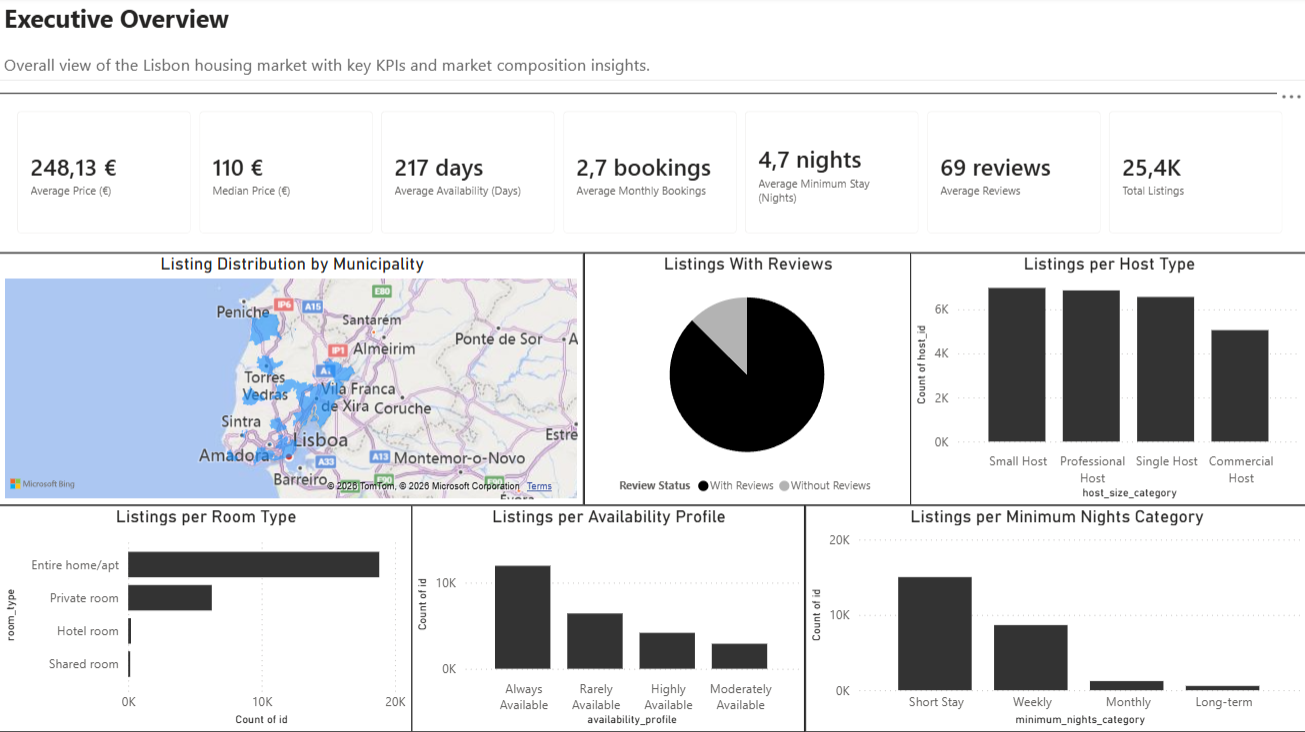

The dashboard page shown, as its layout file describes it:
{"tool":"powerbi","page":{"name":"Executive Overview","canvas":[1280,720],"ordinal":0},"visuals":[{"type":"cardVisual","fields":{"Data":["Avg(listings_data_clean.price)","Median(listings_data_clean.price)1","Avg(listings_data_clean.availability_365)","Avg(listings_data_clean.estimated_bookings_month)","Avg(listings_data_clean.minimum_nights)","Avg(listings_data_clean.number_of_reviews)","CountNonNull(listings_data_clean.id)"]},"box":[0,94.7,1280.3,156.4],"z":0},{"type":"textbox","box":[0,0,1280,82.5],"z":1000},{"type":"filledMap","title":"Listing Distribution by Municipality","fields":{"Category":["listings_data_clean.neighbourhood_group"]},"box":[0,251.1,572.2,247],"z":2000},{"type":"pieChart","title":"Listings With Reviews","fields":{"Category":["listings_data_clean.Review Status"],"Y":["CountNonNull(listings_data_clean.id)"]},"box":[572.2,251.1,319.7,247],"z":3000},{"type":"columnChart","title":"Listings per Host Type","fields":{"Category":["listings_data_clean.host_size_category"],"Y":["CountNonNull(listings_data_clean.host_id)"]},"box":[891.9,251.1,388.3,247],"z":4000},{"type":"clusteredBarChart","title":"Listings per Room Type","fields":{"Category":["listings_data_clean.room_type"],"Y":["CountNonNull(listings_data_clean.id)"]},"box":[0,497.5,403.8,222.5],"z":5000},{"type":"columnChart","title":"Listings per Availability Profile","fields":{"Category":["listings_data_clean.availability_profile"],"Y":["CountNonNull(listings_data_clean.id)"]},"box":[403.8,497.5,385,222.5],"z":6000},{"type":"columnChart","title":"Listings per Minimum Nights Category","fields":{"Category":["listings_data_clean.minimum_nights_category"],"Y":["CountNonNull(listings_data_clean.id)"]},"box":[788.8,497.5,491.2,222.5],"z":7000}]}

Visuals, with their boxes in screenshot pixels (x1, y1, x2, y2), scaled from the page's 1280x720 canvas onto the 1305x732 screenshot:
cardVisual - Avg(listings_data_clean.price) x Median(listings_data_clean.price)1: locate(0, 96, 1304, 255)
textbox: locate(0, 0, 1304, 84)
"Listing Distribution by Municipality" filledMap: locate(0, 255, 583, 506)
"Listings With Reviews" pieChart: locate(583, 255, 909, 506)
"Listings per Host Type" columnChart: locate(909, 255, 1304, 506)
"Listings per Room Type" clusteredBarChart: locate(0, 506, 412, 731)
"Listings per Availability Profile" columnChart: locate(412, 506, 804, 731)
"Listings per Minimum Nights Category" columnChart: locate(804, 506, 1304, 731)
